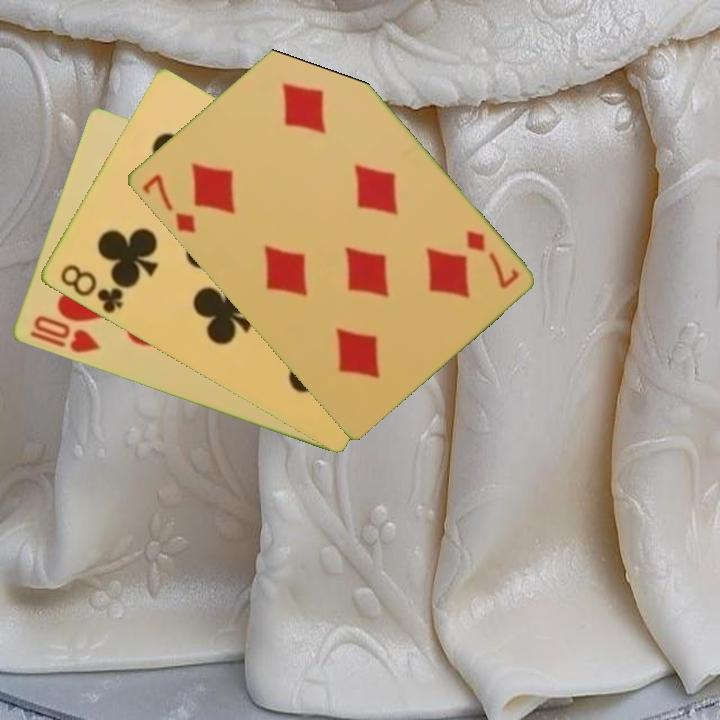10h: (29, 312, 103, 357)
7d: (137, 170, 198, 237), (461, 226, 521, 292)
8c: (56, 260, 126, 317)
